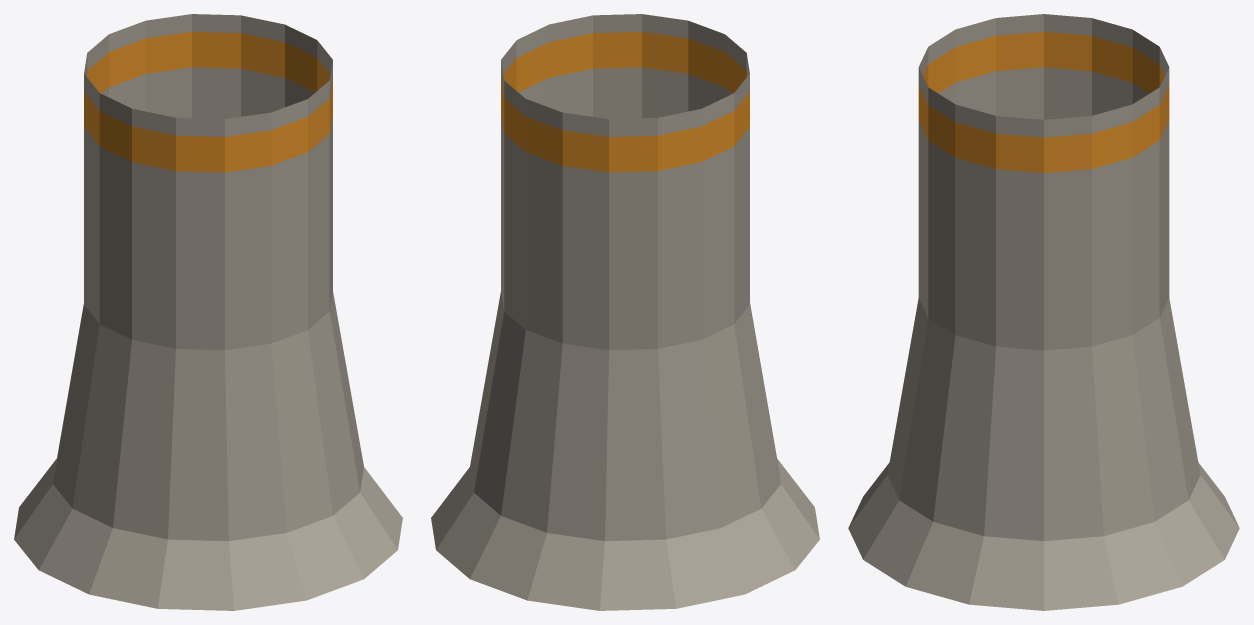
File: reactor.fbx
3 renders of one model, left to right at view 1: azimuth 30°, elevation 25°; view 2: azimuth 150°, elevation 25°; view 3: azimuth 270°, elevation 25°, orthographic.
Parts seen in each view (by area): view 1: Cylinder; view 2: Cylinder; view 3: Cylinder.
Part boxes in pixels (left/top/right/bottom): Cylinder: left=14, top=14, right=402, bottom=610; Cylinder: left=431, top=14, right=819, bottom=610; Cylinder: left=848, top=14, right=1239, bottom=610.
Size of the model in its own units: 200 by 260 by 200.
